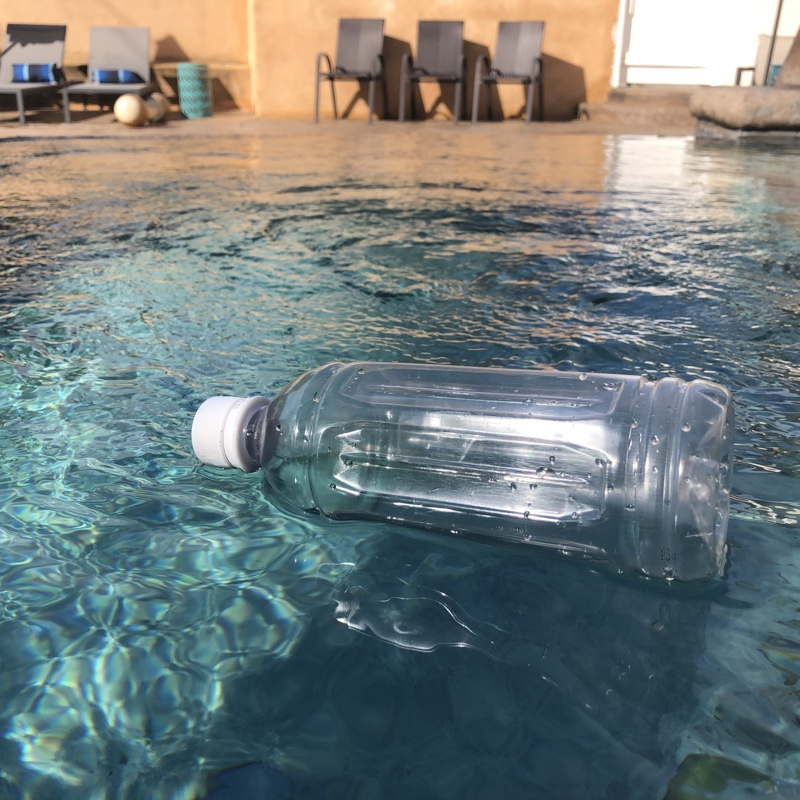Plastic Bottle: (186, 354, 739, 590)
